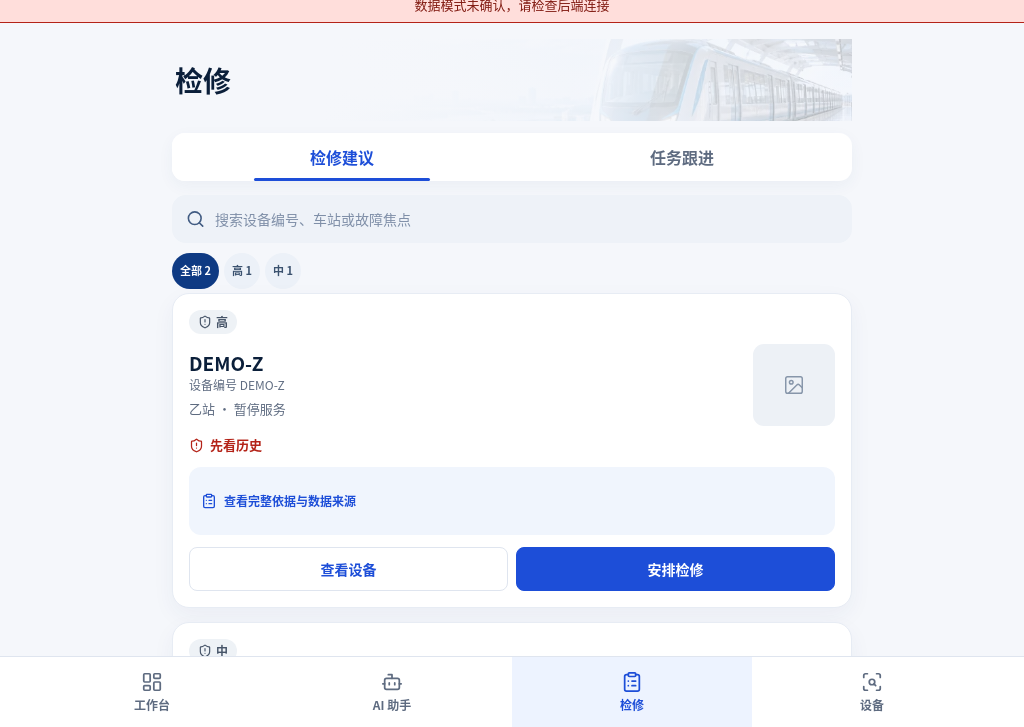
disables repeat create and shows 422, 404 and feedback errors
Click the button "安排检修" at (676, 569), box [516,547,835,591]
(page scrolled)
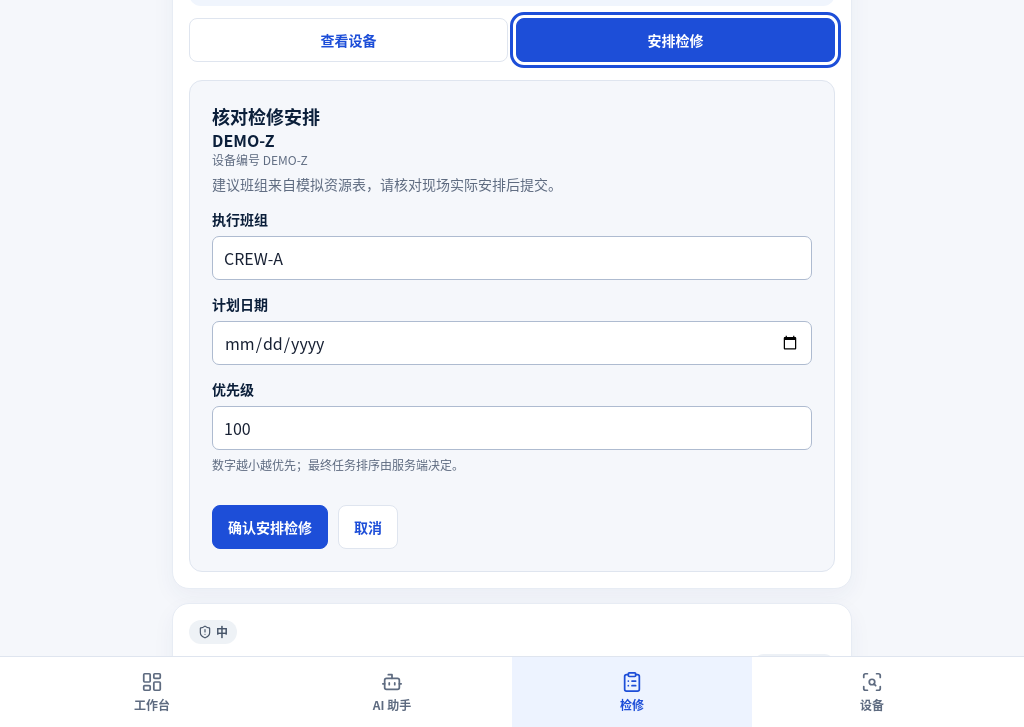
Type "2026-11-03" into the date field labelled "计划日期" at (512, 343), box [212,321,812,365]
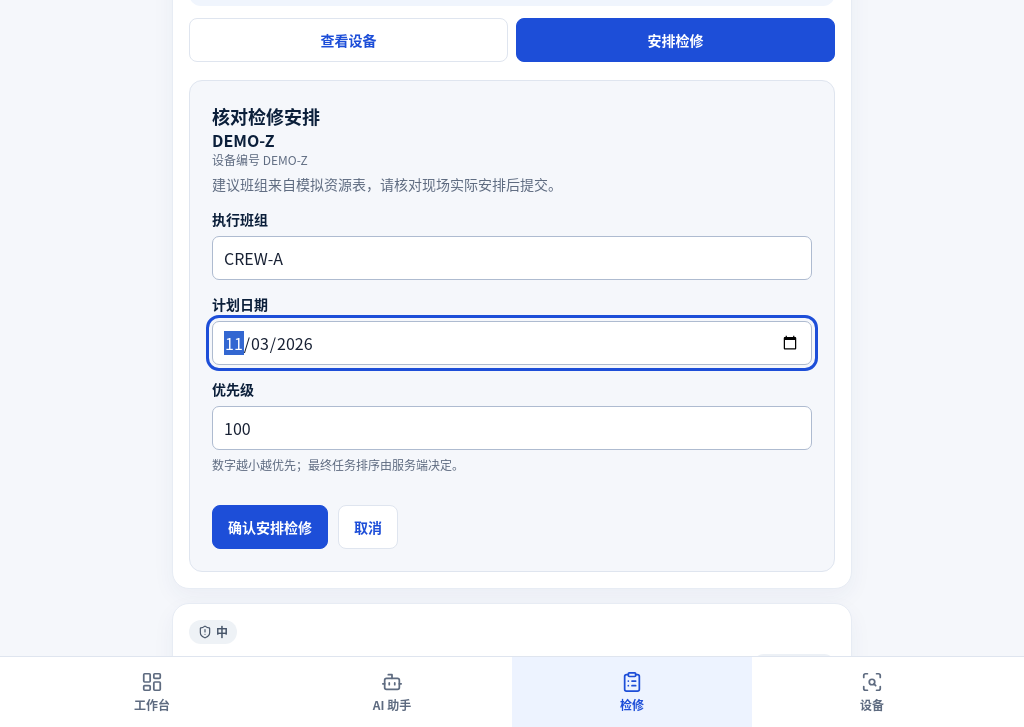
Click the button "确认安排检修" at (270, 527), box [212,505,328,549]
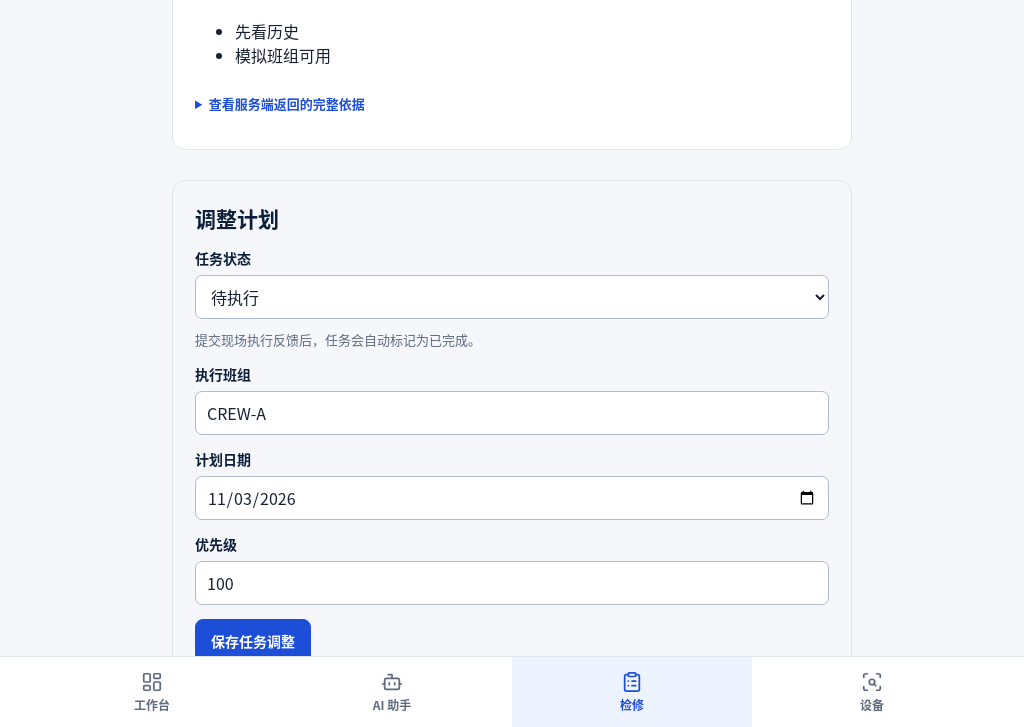
Click the button "保存任务调整" at (253, 641), box [195,619,311,663]
(page scrolled)
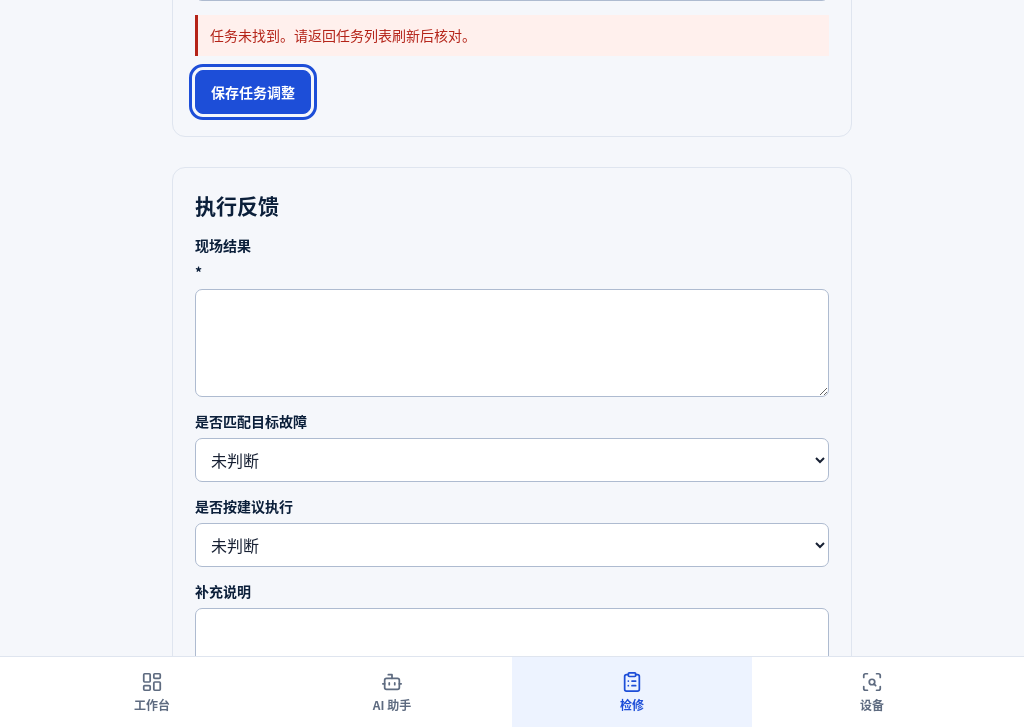
Check: the text "任务未找到。请返回任务列表刷新后核对。" is shown, box [195,15,829,56]
Type "已检查" into the text box labelled "现场结果 *" at (512, 343), box [195,289,829,397]
(page scrolled)
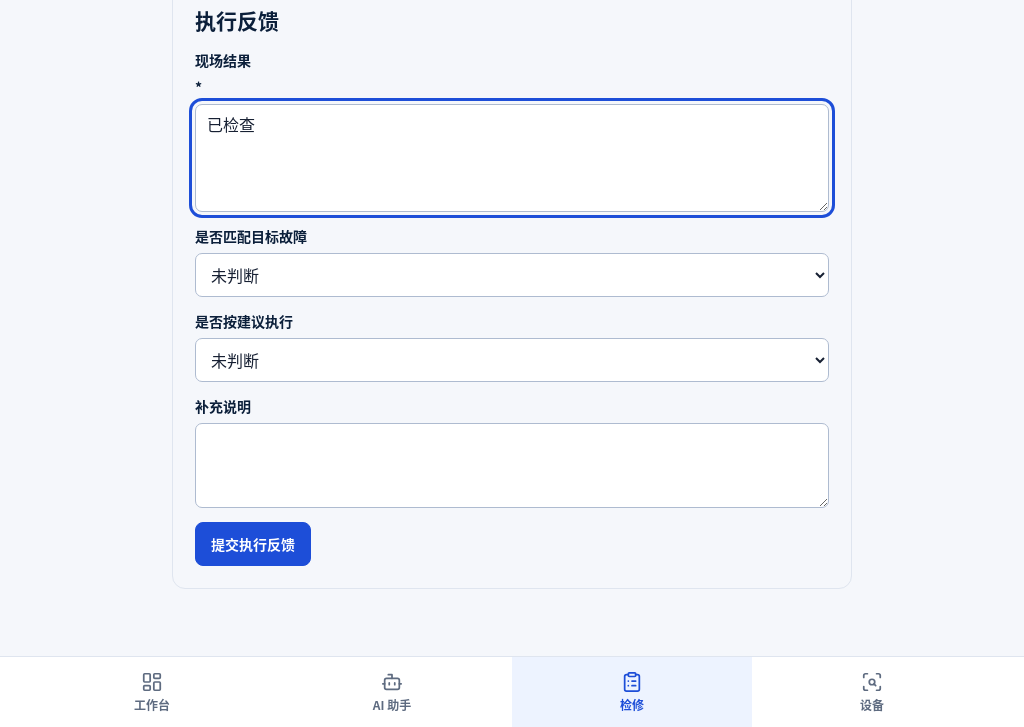
Click the button "提交执行反馈" at (253, 544), box [195,522,311,566]
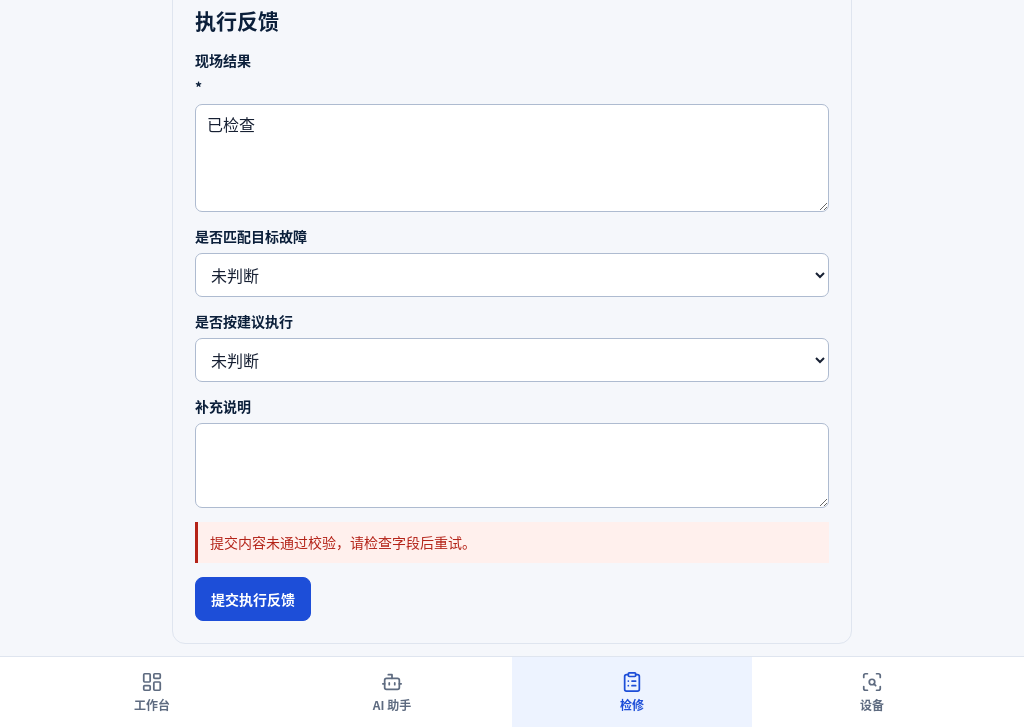
Check: the text "提交内容未通过校验，请检查字段后重试。" is shown, box [195,522,829,563]
